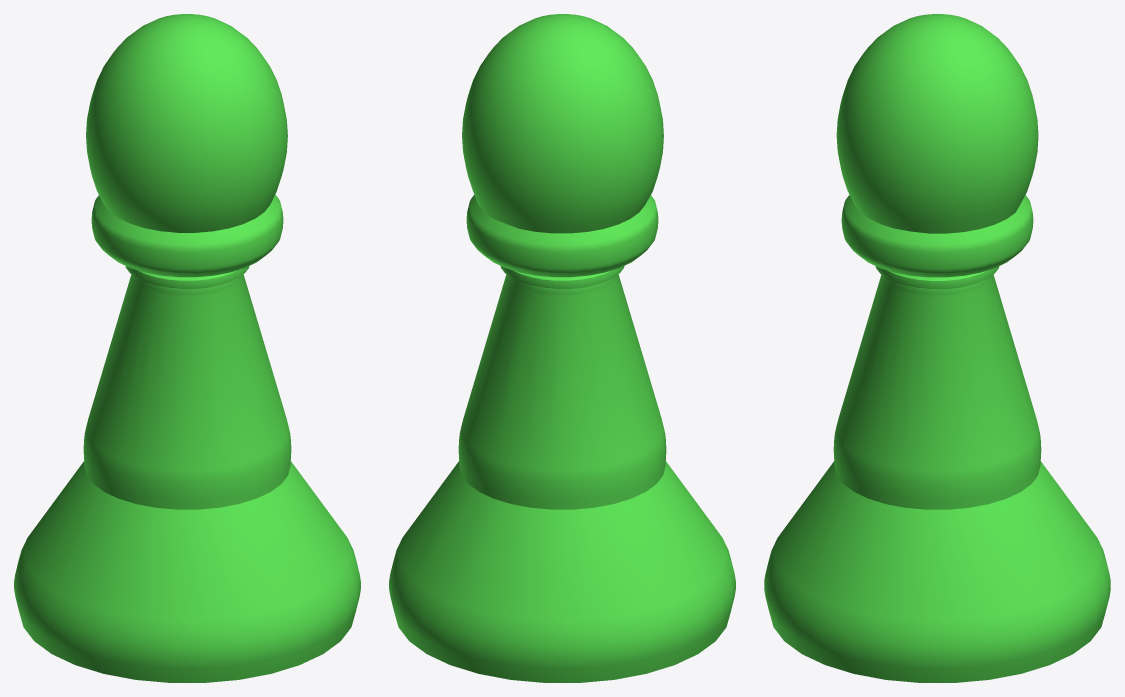
File: green.glb
3 renders of one model, left to right at view 1: azimuth 30°, elevation 25°; view 2: azimuth 150°, elevation 25°; view 3: azimuth 270°, elevation 25°, orthographic.
Parts seen in each view (by area): view 1: green; view 2: green; view 3: green.
Part boxes in pixels (x1=…): green: x1=14, y1=14, x2=360, y2=682; green: x1=389, y1=14, x2=735, y2=682; green: x1=764, y1=14, x2=1110, y2=682.
Bounding box in the file's own units: 0.0242 × 0.0458 × 0.0243.
